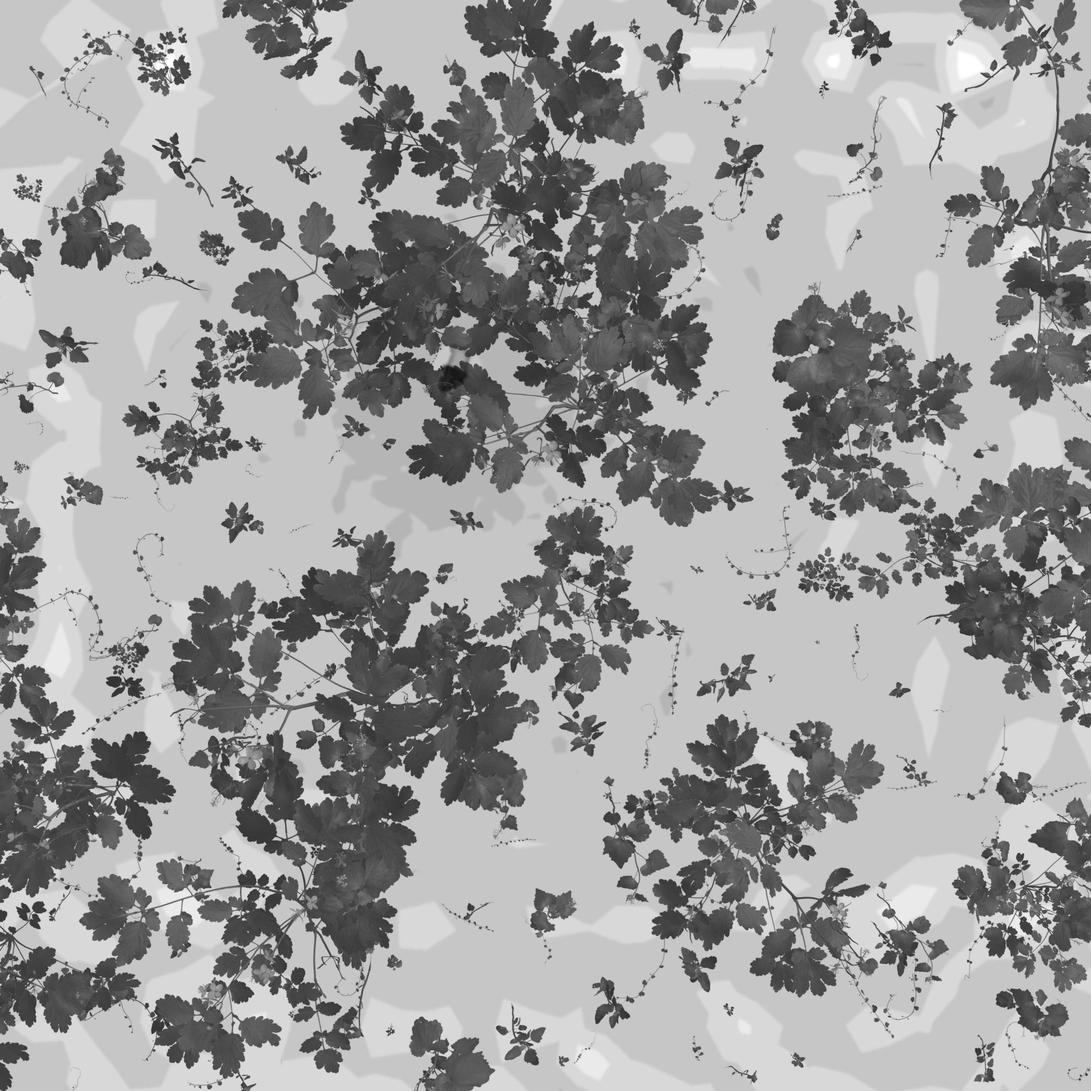landmine: (493, 345, 531, 398)
